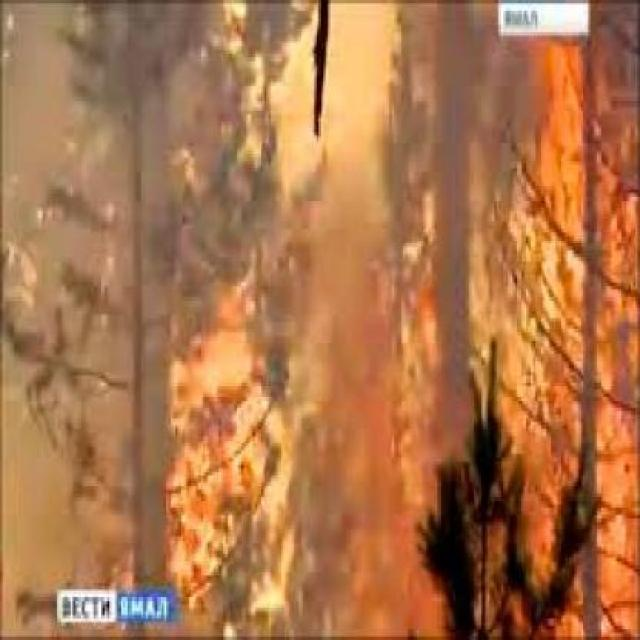Fire: (390, 0, 640, 640), (76, 191, 339, 640)
